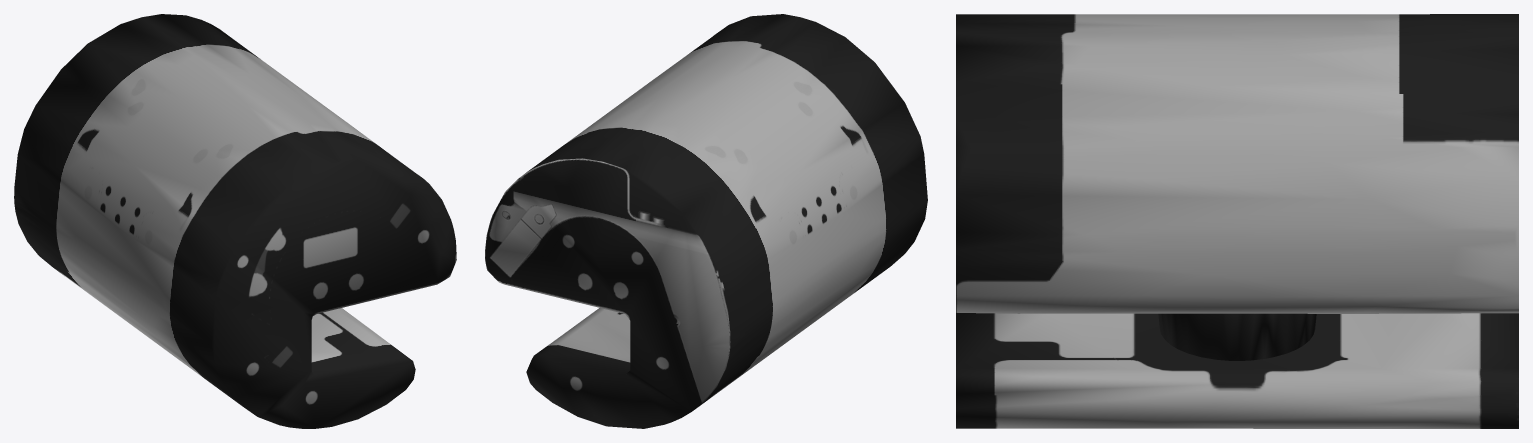
Rendered from tilting_hokuyo.obj.
3 views of the same model, side by side, from view 1: azimuth 30°, elevation 25°; view 2: azimuth 150°, elevation 25°; view 3: azimuth 270°, elevation 25° (orthographic). The views are drawn at different scales.
Visible parts, largest first — view 1: SM_hokuyo_M; view 2: SM_hokuyo_M; view 3: SM_hokuyo_M.
Part boxes in pixels (box(x1,y1,x2,y2)): SM_hokuyo_M: box(14, 14, 456, 428); SM_hokuyo_M: box(485, 14, 927, 428); SM_hokuyo_M: box(956, 14, 1518, 428).
Size of the model in its own units: 0.117 by 0.1202 by 0.163.
1 material, 1 textured.
